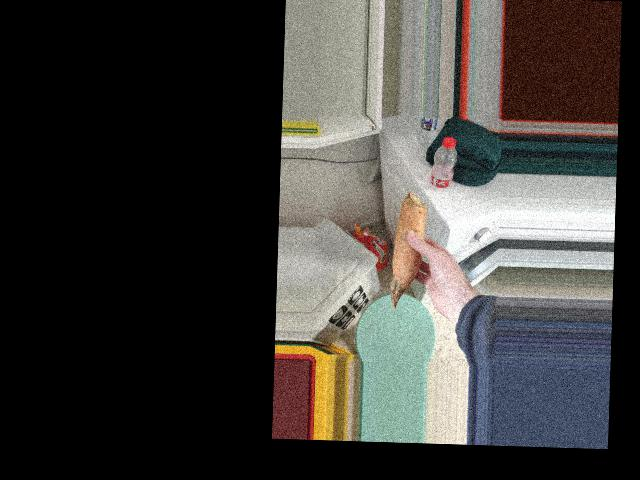sweet_potato: (389, 199, 425, 310)
